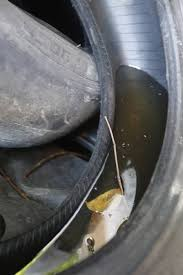tire: (1, 1, 183, 273)
